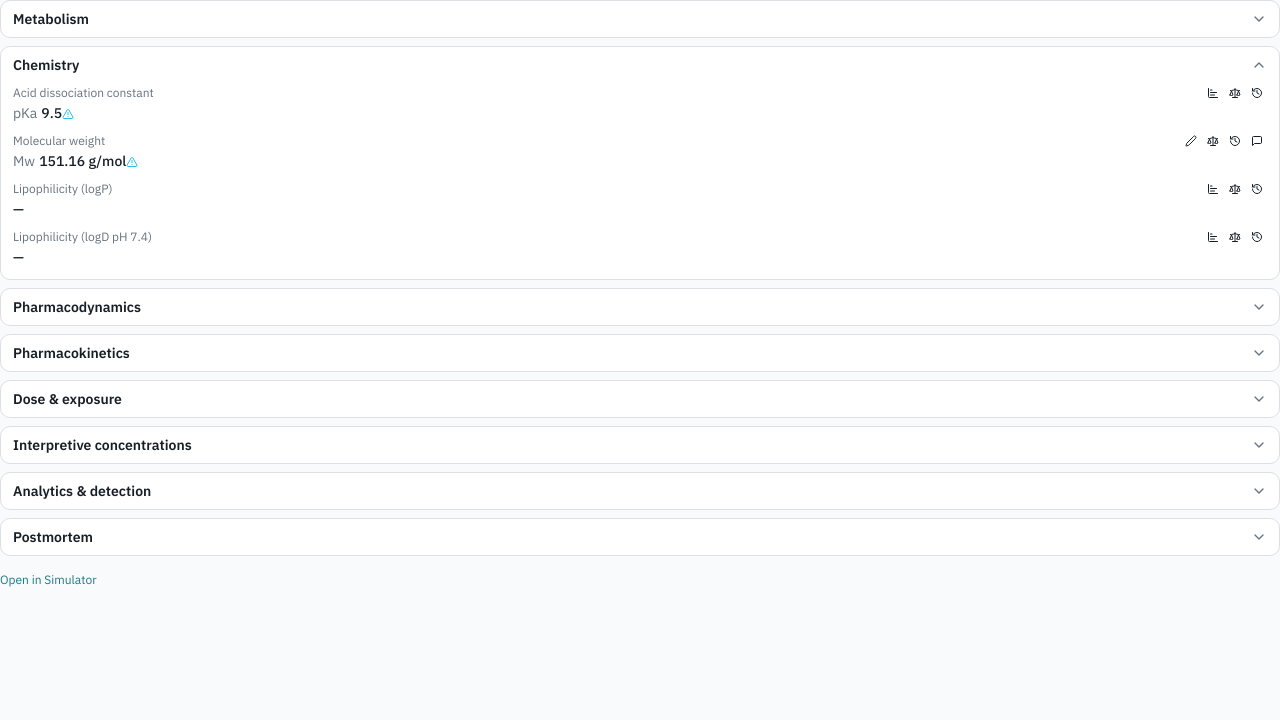
Test case: DrugMonographSidebar › offers contributors a metabolism editor even when no data exists
The width and height of the screenshot is (1280, 720).
# The metabolism box renders for contributors so they can start one.
Click the button "Metabolism" at (51,19), box [1,1,1279,37]
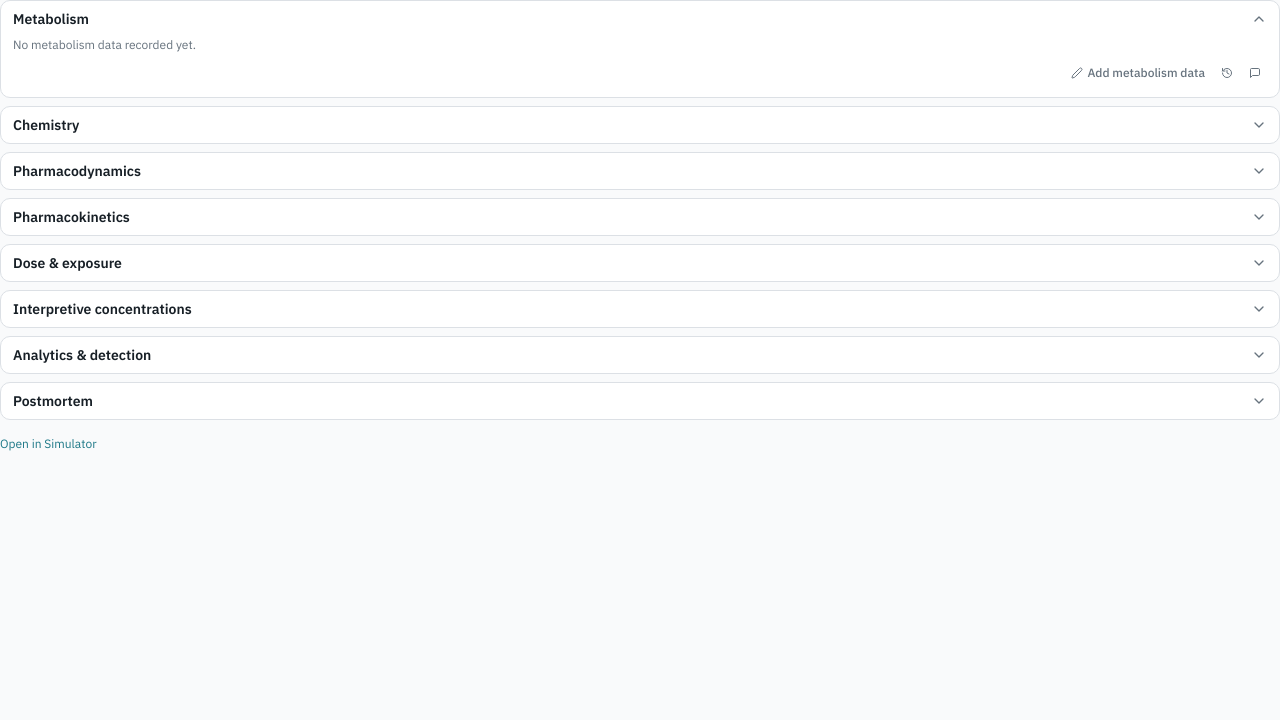
Result: the text "No metabolism data recorded yet." is shown at [13,37,196,52]
Click the button "Add metabolism data" at (1138,73), box [1065,61,1211,85]
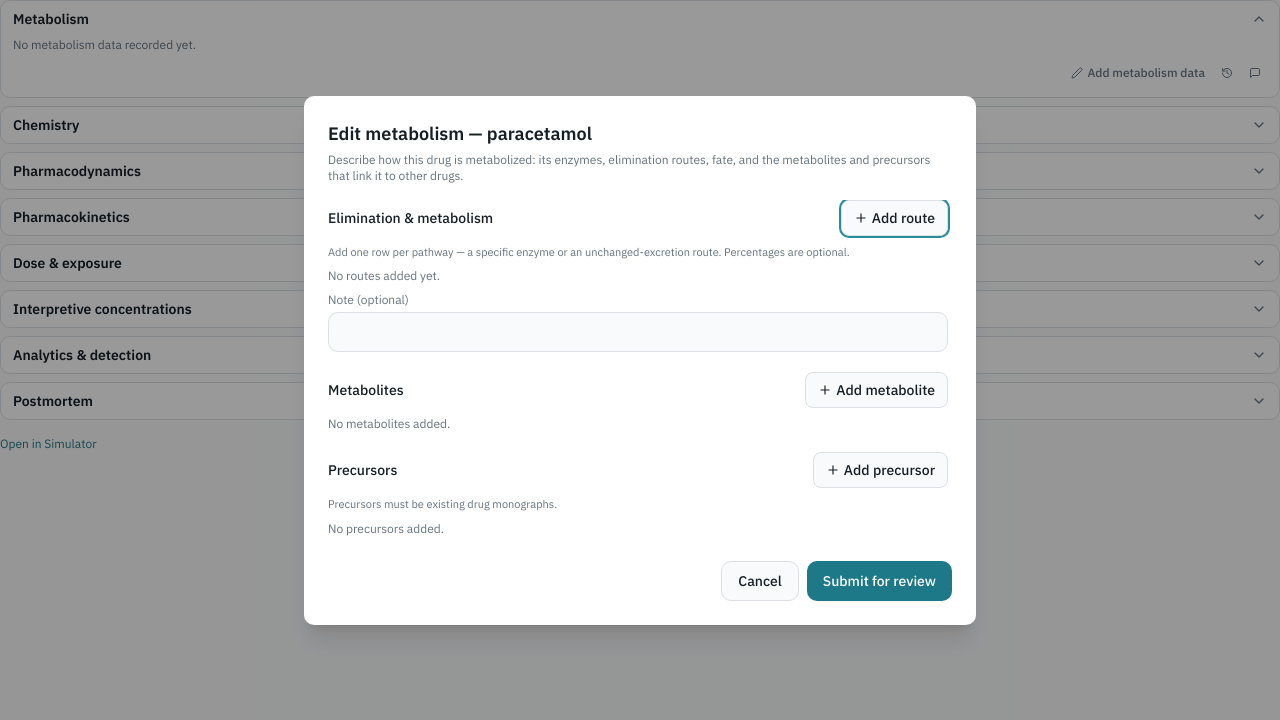
Result: the heading "Edit metabolism — paracetamol" is shown at [328,122,592,144]
